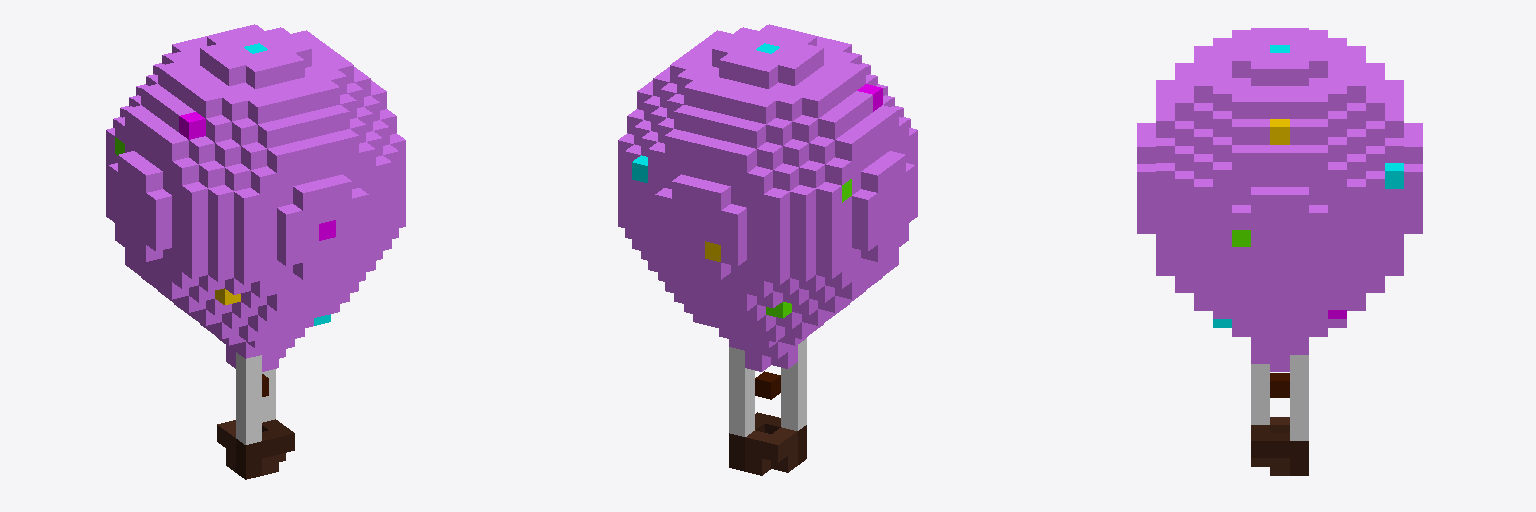
3 views of the same model, side by side, from view 1: azimuth 30°, elevation 25°; view 2: azimuth 150°, elevation 25°; view 3: azimuth 270°, elevation 25° (orthographic).
Visible parts, largest first — view 1: object 1; view 2: object 1; view 3: object 1.
Boxes of the visible parts, box(x1,y1,x2,y2) form: object 1: box(106, 24, 405, 479); object 1: box(618, 24, 917, 475); object 1: box(1137, 28, 1422, 475).
Size of the model in its own units: 1.5 by 2.4 by 1.5.
1 materials, 1 textured.